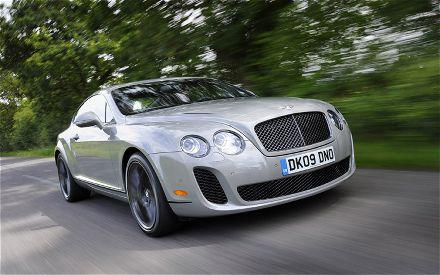Car: (40, 64, 393, 250)
